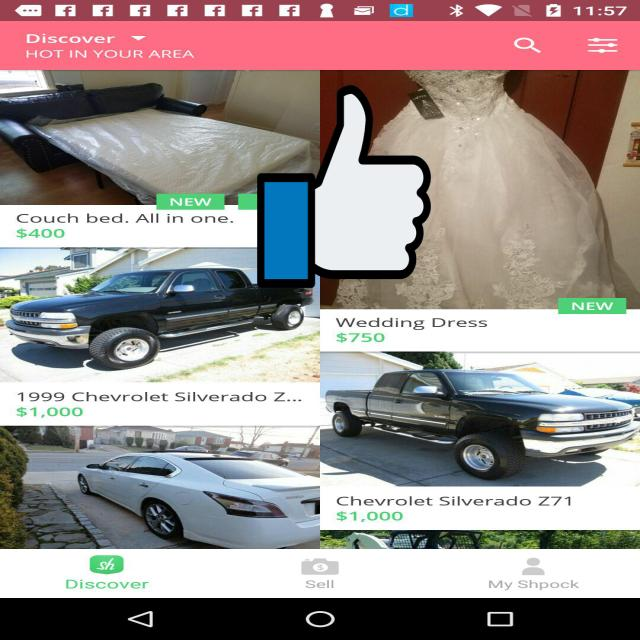privacy zuckering: (257, 81, 431, 292)
